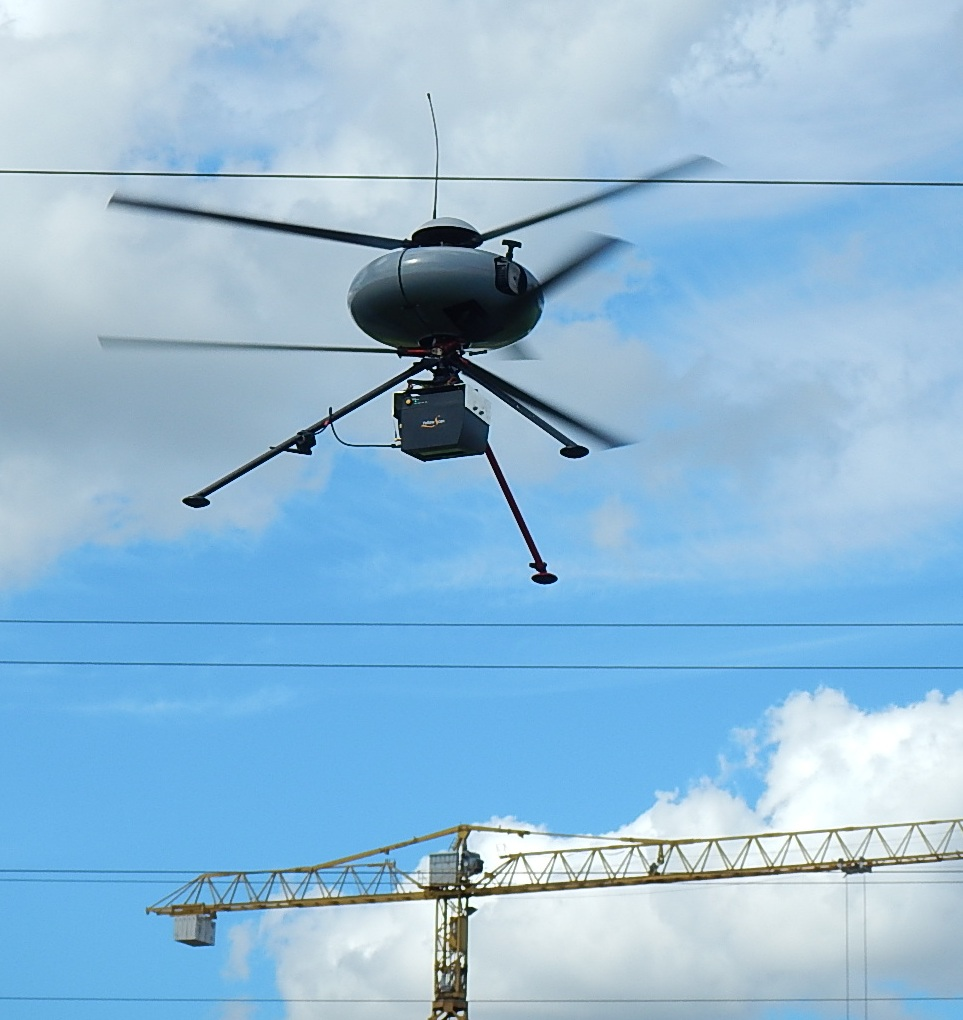drone: (93, 151, 735, 585)
